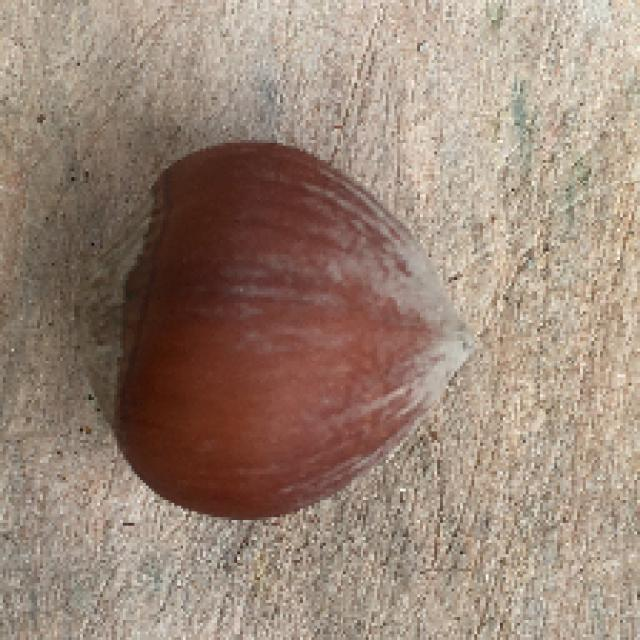qualityHazelnut: (86, 117, 486, 533)
